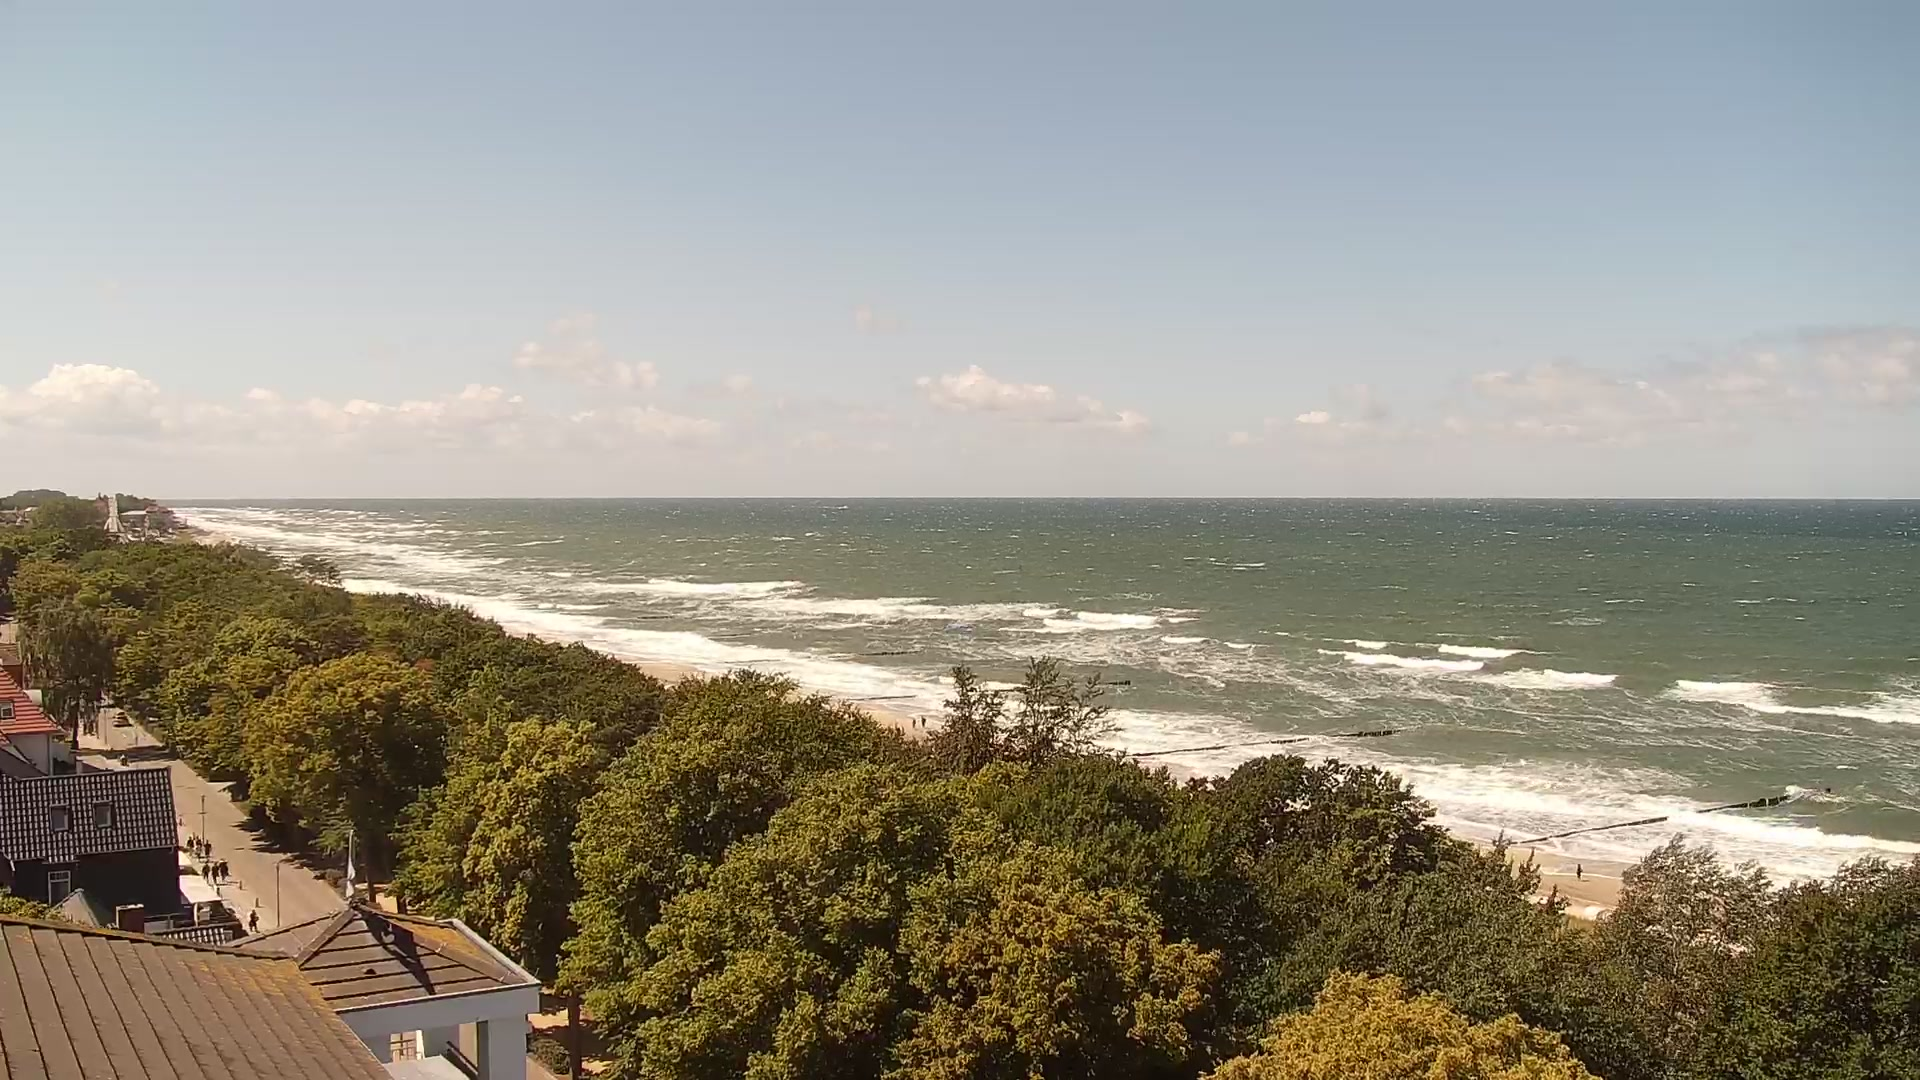human: (218, 857, 228, 882), (248, 908, 259, 932), (202, 860, 211, 883), (194, 834, 202, 857), (211, 860, 219, 883), (186, 835, 194, 857), (203, 839, 211, 858), (1576, 862, 1583, 879), (119, 752, 127, 765), (921, 715, 926, 726), (911, 718, 916, 728)
land: (111, 710, 129, 726)
